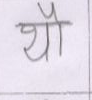au_matra: (48, 1, 68, 55)
